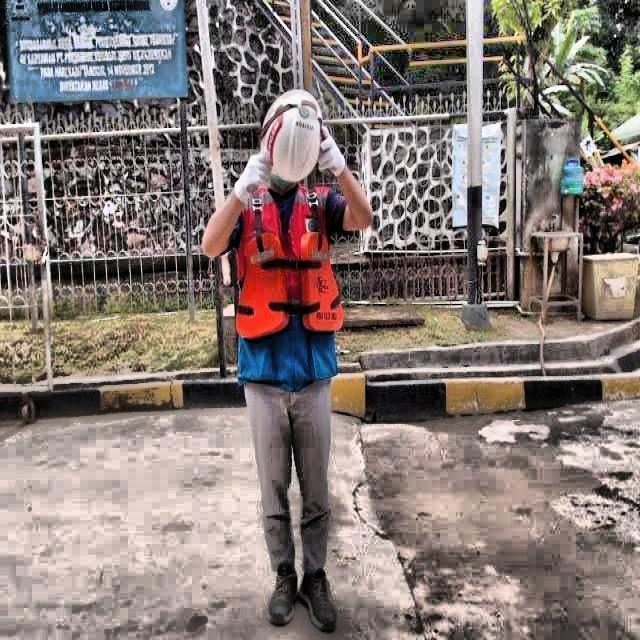safety_jacket: (234, 184, 350, 364)
